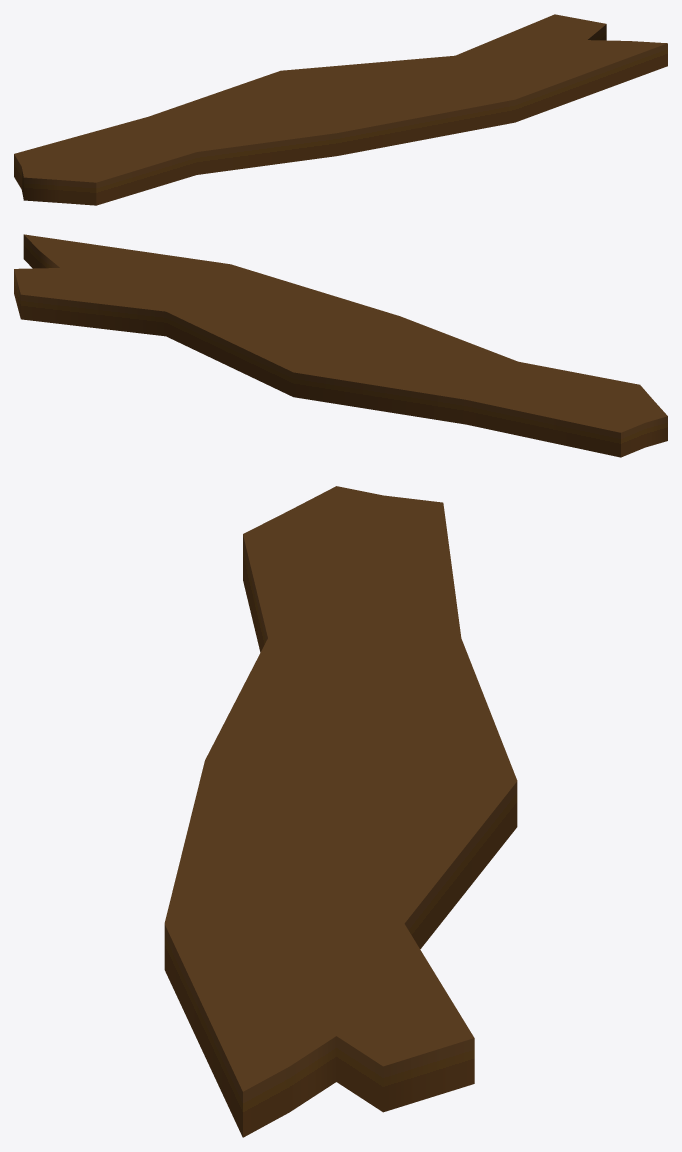
File: SM_FaultyPlank_002.fbx
The picture shows the model from 3 angles, top to bottom: view 1: azimuth 30°, elevation 25°; view 2: azimuth 150°, elevation 25°; view 3: azimuth 270°, elevation 25°; orthographic projection. The views are drawn at different scales.
Parts seen in each view (by area): view 1: SM_FaultyPlank_002; view 2: SM_FaultyPlank_002; view 3: SM_FaultyPlank_002.
Part boxes in pixels (bbox=[...]): SM_FaultyPlank_002: bbox=[14, 14, 667, 205]; SM_FaultyPlank_002: bbox=[14, 234, 667, 457]; SM_FaultyPlank_002: bbox=[164, 486, 517, 1137].
Bounding box in the file's own units: 47.76 × 1.69 × 11.76.
